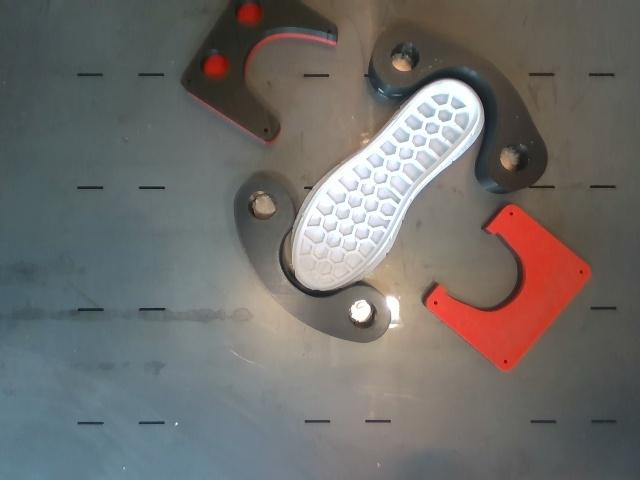shoes: (293, 81, 478, 290)
